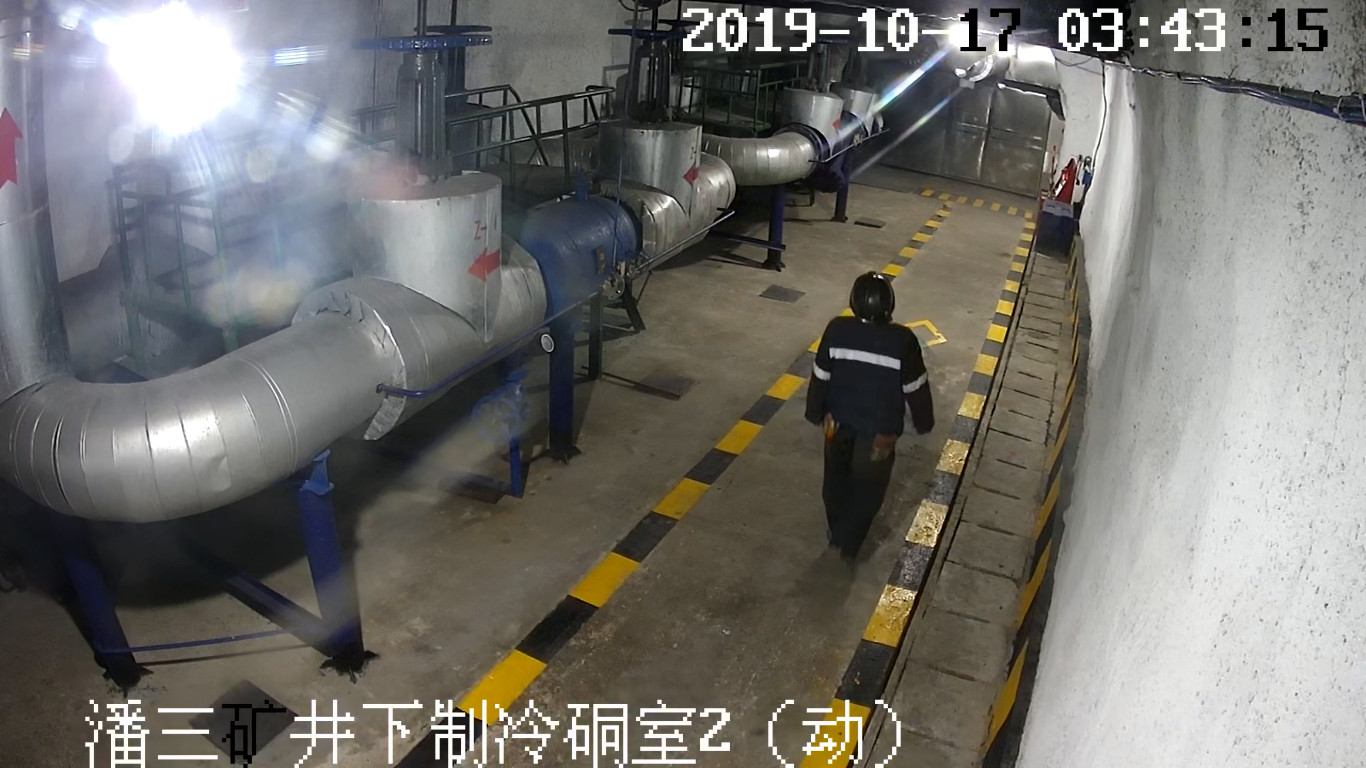helmet: (849, 270, 895, 326)
